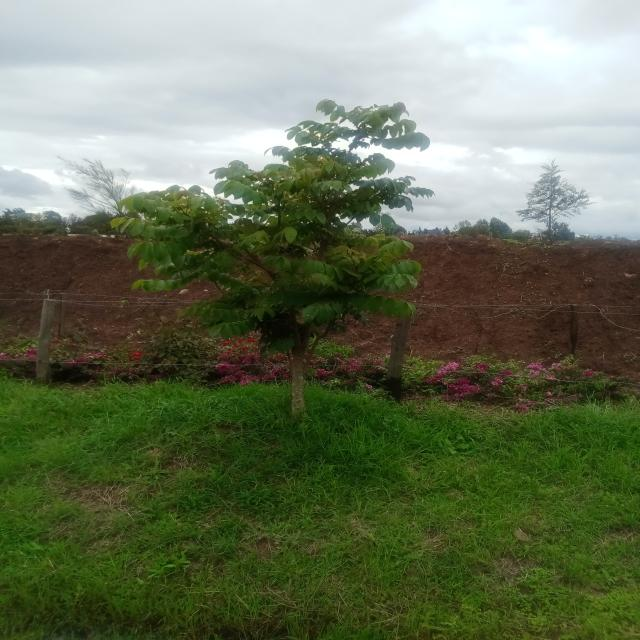Polyscias Kikuyensis: (114, 100, 446, 412)
